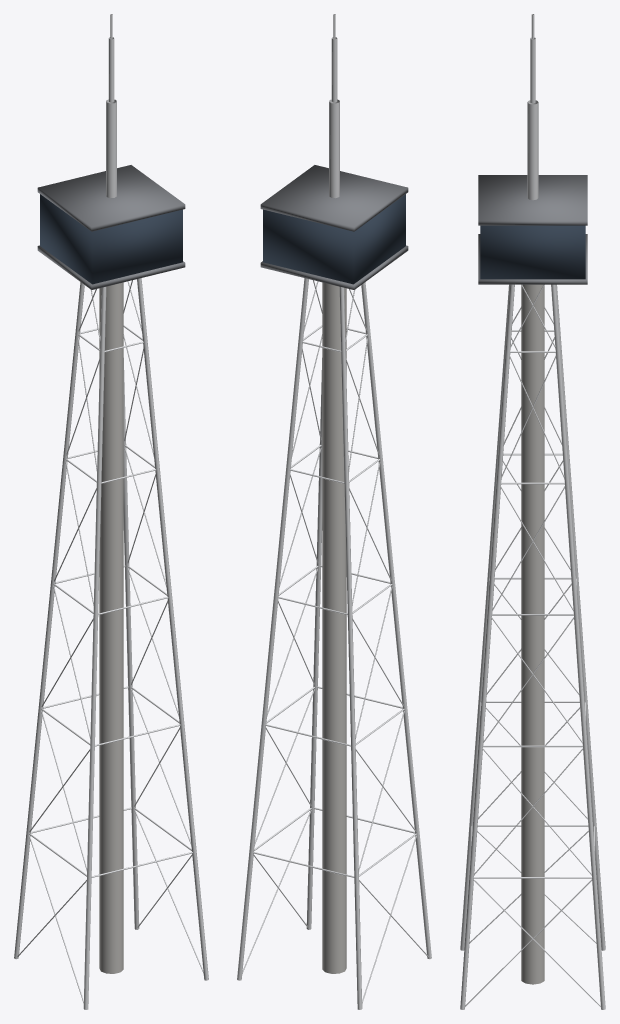
Rendered from observation_tower.glb.
The picture shows the model from 3 angles, left to right: view 1: azimuth 30°, elevation 25°; view 2: azimuth 150°, elevation 25°; view 3: azimuth 270°, elevation 25°; orthographic projection.
Parts seen in each view (by area): view 1: observation_tower; view 2: observation_tower; view 3: observation_tower.
Boxes of the visible parts, left/top/right/bottom form: observation_tower: left=14, top=14, right=208, bottom=1009; observation_tower: left=237, top=14, right=431, bottom=1009; observation_tower: left=460, top=14, right=605, bottom=1009.
Bounding box in the file's own units: 8.27 × 60.52 × 8.27.
